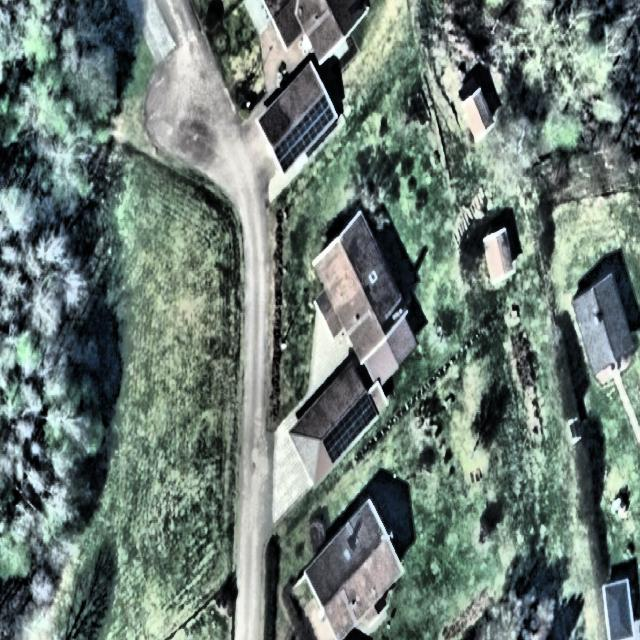roof_pv: (300, 92, 336, 146), (347, 392, 378, 447), (273, 123, 304, 177), (322, 416, 354, 467)
